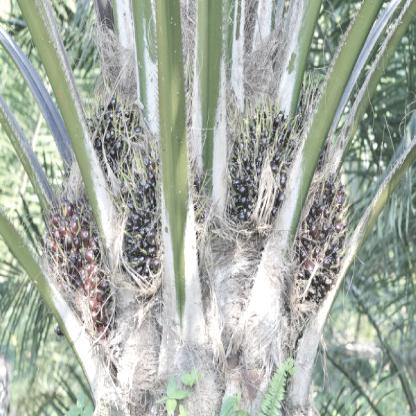1: (46, 190, 112, 346), (291, 176, 355, 316)
palm-oil: (218, 111, 302, 226), (81, 101, 151, 181), (122, 152, 162, 288)
